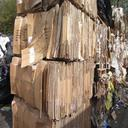cardboard: (8, 55, 94, 119), (12, 0, 97, 58), (10, 95, 91, 127), (15, 0, 96, 19), (94, 67, 114, 125), (109, 27, 127, 83), (96, 16, 109, 64), (111, 5, 127, 31)
